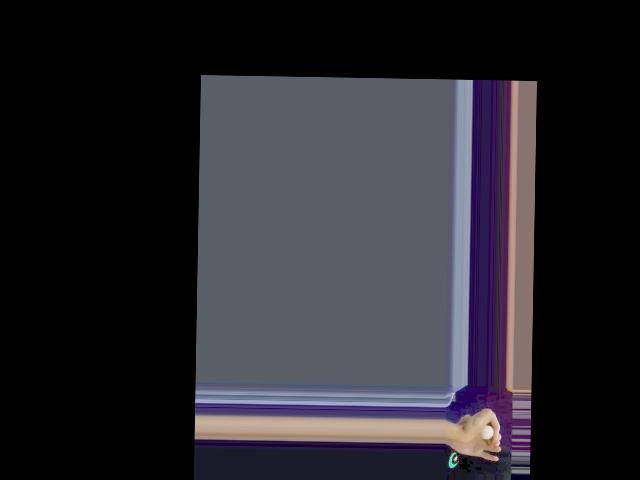egg: (482, 424, 493, 439)
